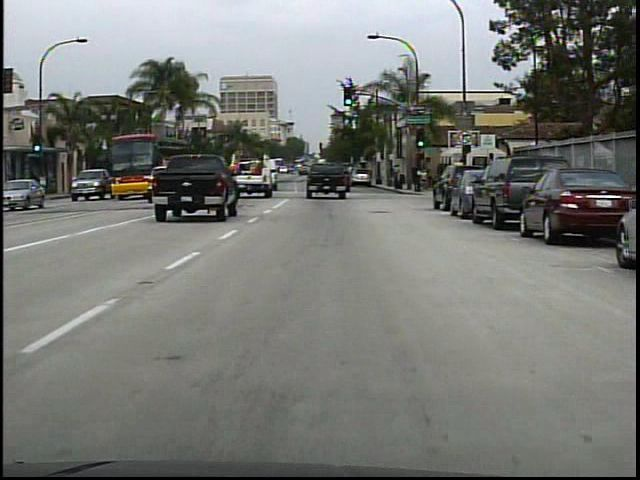person: (420, 167, 430, 192), (426, 169, 434, 191)
